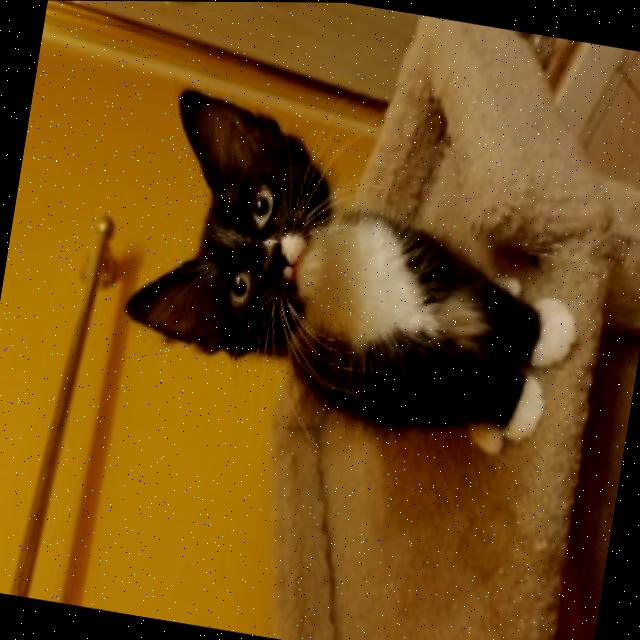Tuxedo: (103, 78, 608, 469)
